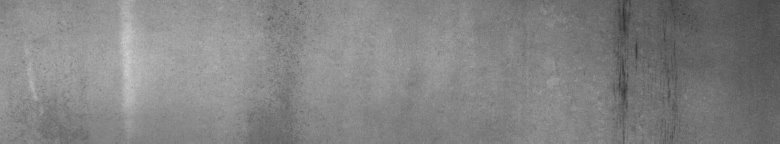ka: (604, 4, 690, 136)
